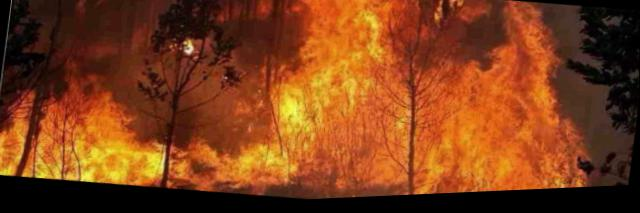fire: (0, 0, 614, 211)
